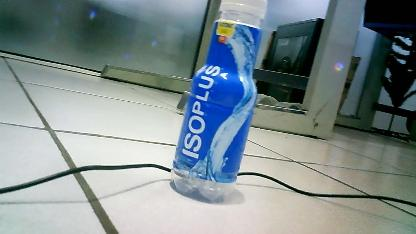Plastic Bottle: (168, 0, 270, 204)
